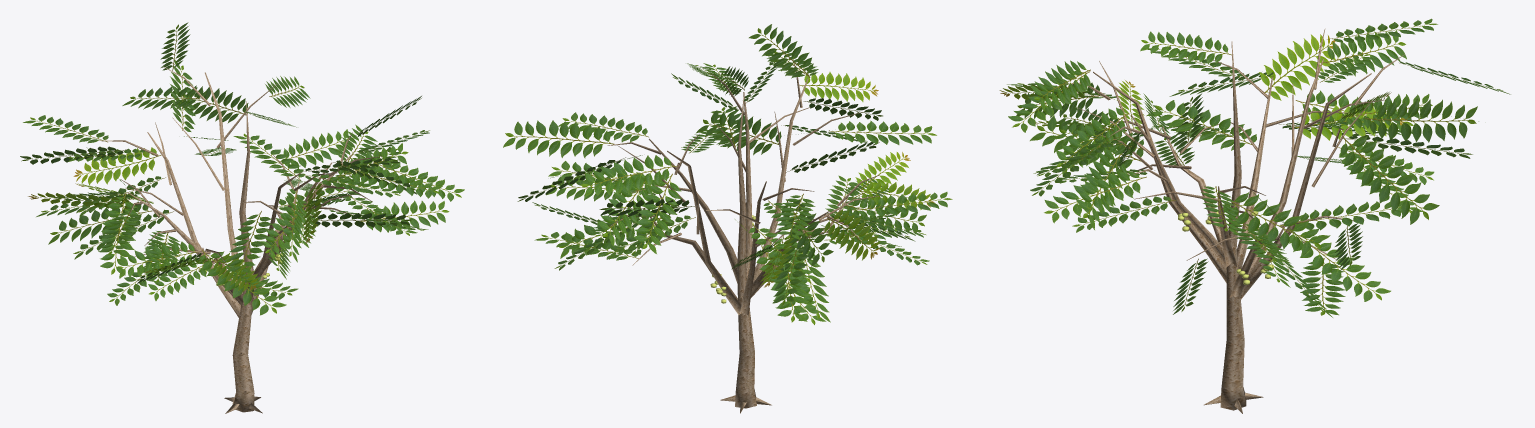
The model's file is StarGooseberryTree_LOD2.fbx.
The picture shows the model from 3 angles, left to right: view 1: azimuth 30°, elevation 25°; view 2: azimuth 150°, elevation 25°; view 3: azimuth 270°, elevation 25°; orthographic projection. The views are drawn at different scales.
Parts seen in each view (by area): view 1: Leaves_LOD2, Bark_LOD2; view 2: Leaves_LOD2, Bark_LOD2; view 3: Leaves_LOD2, Bark_LOD2.
Boxes of the visible parts, x1=… form: Leaves_LOD2: x1=20, y1=22, x2=464, y2=315; Bark_LOD2: x1=99, y1=66, x2=382, y2=413; Leaves_LOD2: x1=503, y1=24, x2=952, y2=324; Bark_LOD2: x1=607, y1=62, x2=881, y2=413; Leaves_LOD2: x1=999, y1=18, x2=1510, y2=317; Bark_LOD2: x1=1065, y1=28, x2=1404, y2=413.
Bounding box in the file's own units: 654 × 505 × 645.
